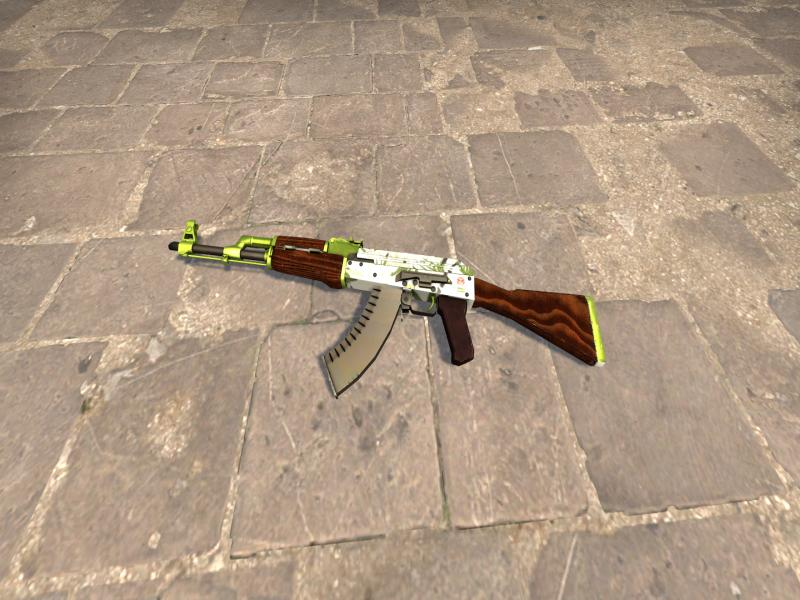AK47: (169, 219, 604, 394)
